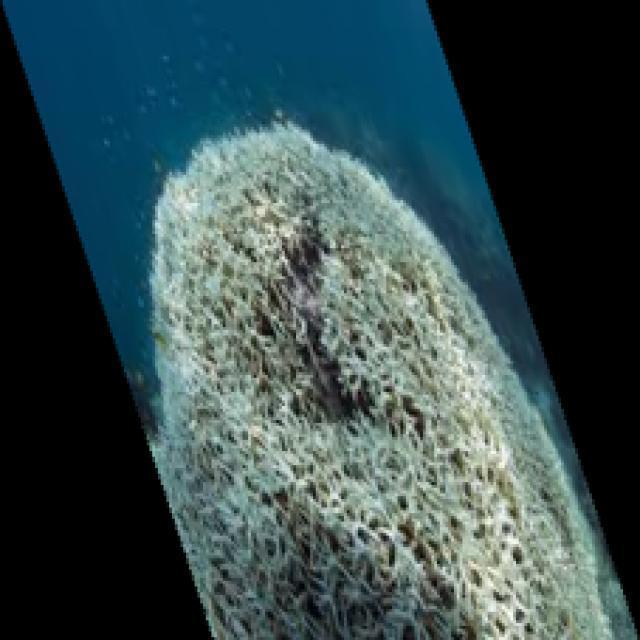Bleached: (152, 123, 617, 640)
